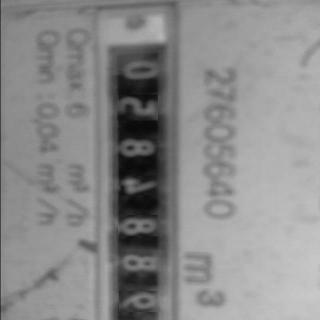1: (121, 61, 159, 82)
5: (120, 177, 158, 196)
6: (117, 95, 158, 121)
9: (118, 138, 158, 160), (118, 216, 158, 237), (121, 252, 160, 272)
:: (119, 292, 160, 313)
